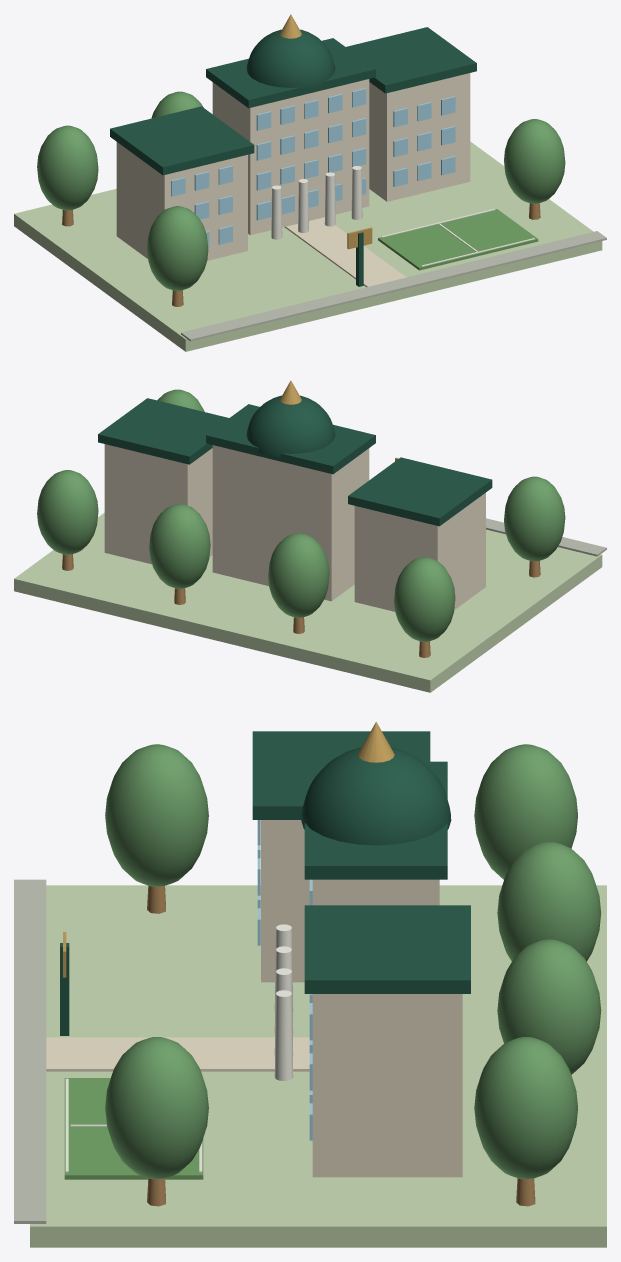
The model's file is campus.glb.
3 views of the same model, one above another, from view 1: azimuth 30°, elevation 25°; view 2: azimuth 150°, elevation 25°; view 3: azimuth 270°, elevation 25° (orthographic). The views are drawn at different scales.
Size of the model in its own units: 7 by 3.4 by 5.14.
